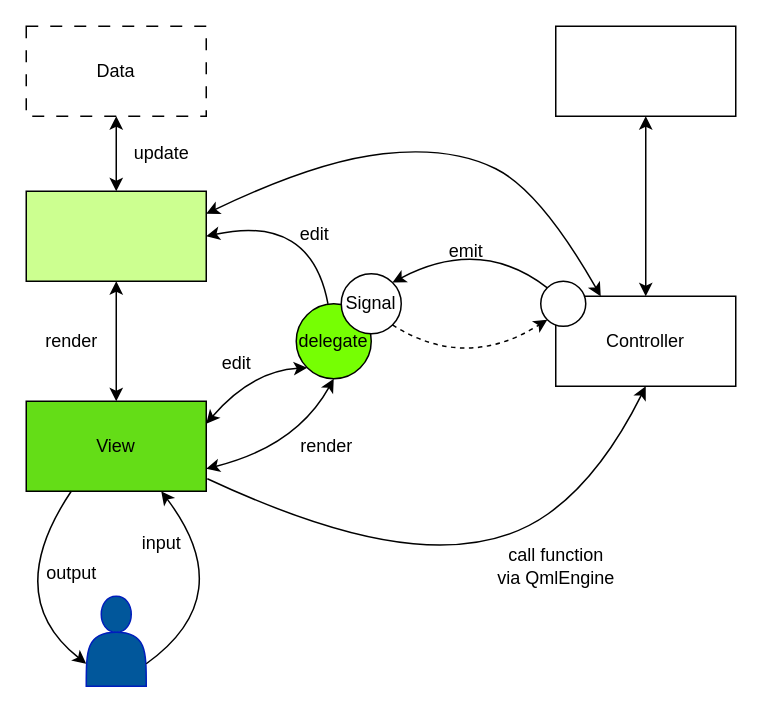
Some shapes in this 762 by 713 pixel diagram are drawn without their labels. Here are the shapes that lost their labels. From the top down, the box of each, then its label:
(554, 25, 736, 116): Service
(25, 190, 206, 281): Model
(539, 280, 586, 326): Slot
